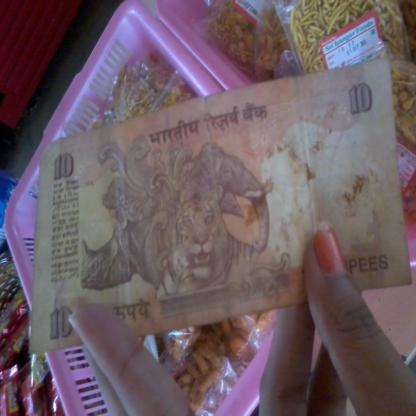Old10Back: (28, 55, 413, 355)
